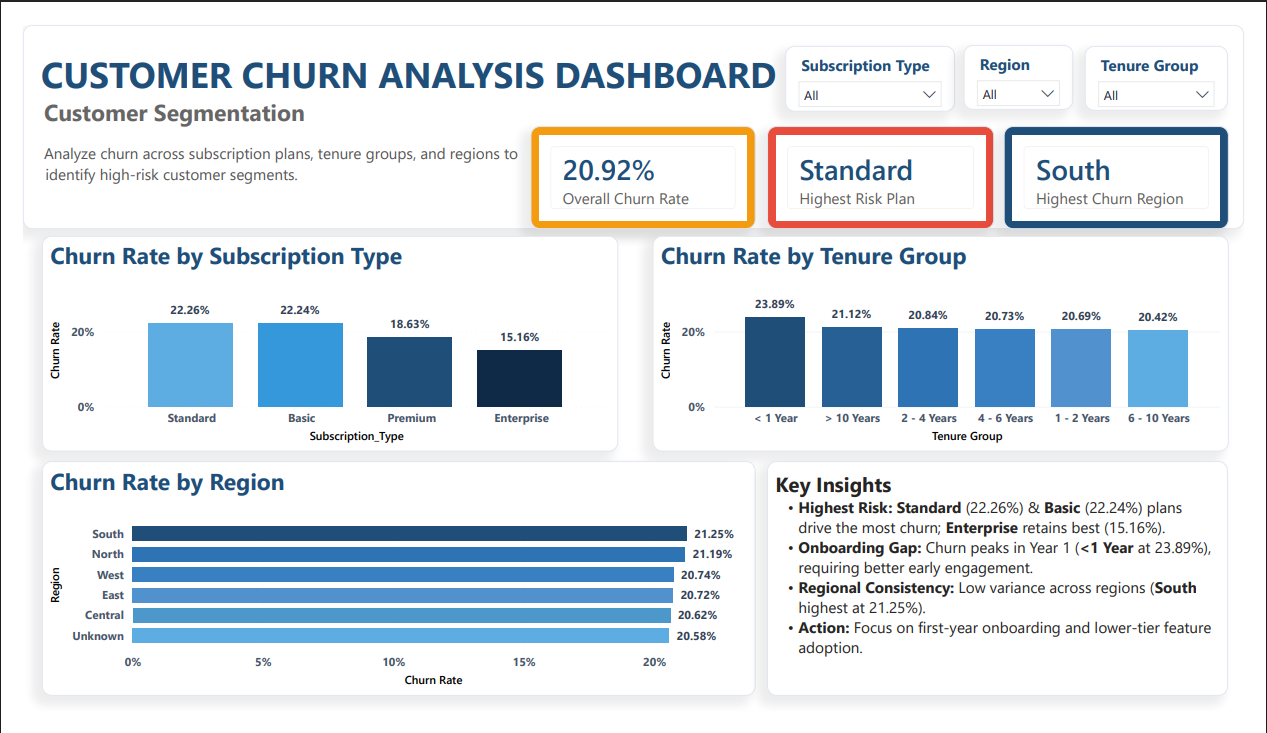

The dashboard page shown, as its layout file describes it:
{"tool":"powerbi","page":{"name":"Segmentation","canvas":[1280,720],"ordinal":1},"visuals":[{"type":"textbox","box":[0,0,1280,214],"z":0},{"type":"cardVisual","fields":{"Data":["select"]},"box":[532,106,236,108],"z":1000},{"type":"cardVisual","fields":{"Data":["Max(churn_customers_cleaned.Subscription_Type)"]},"box":[780,106,238,108],"z":2000},{"type":"slicer","fields":{"Values":["churn_customers_cleaned.Subscription_Type"]},"box":[798.9,22.2,178.3,68.3],"z":3000},{"type":"slicer","fields":{"Values":["churn_customers_cleaned.Region"]},"box":[985.6,21.1,115,68.3],"z":4000},{"type":"slicer","fields":{"Values":["churn_customers_cleaned.Tenure Group"]},"box":[1113.3,21.7,150,68.3],"z":5000},{"type":"cardVisual","fields":{"Data":["churn_customers_cleaned.Highest Churn Region"]},"box":[1028,106,236,108],"z":6000},{"type":"clusteredColumnChart","title":"Churn Rate by Subscription Type","fields":{"Category":["churn_customers_cleaned.Subscription_Type"],"Y":["churn_customers_cleaned.Churn Rate"]},"box":[20,221.3,604,226],"z":7000},{"type":"clusteredColumnChart","fields":{"Y":["churn_customers_cleaned.Churn Rate"],"Category":["churn_customers_cleaned.Tenure Group"]},"box":[660,221,604,226],"z":8000},{"type":"clusteredBarChart","fields":{"Y":["churn_customers_cleaned.Churn Rate"],"Category":["churn_customers_cleaned.Region"]},"box":[20,456.7,748.3,246.7],"z":9000},{"type":"textbox","box":[780,456.7,483.3,246.7],"z":10000}]}

Visuals, with their boxes in screenshot pixels (x1, y1, x2, y2), scaled from the page's 1280x720 canvas onto the 1267x733 screenshot:
textbox: locate(0, 0, 1266, 218)
cardVisual - select: locate(527, 108, 760, 218)
cardVisual - Max(churn_customers_cleaned.Subscription_Type): locate(772, 108, 1008, 218)
slicer - churn_customers_cleaned.Subscription_Type: locate(791, 23, 967, 92)
slicer - churn_customers_cleaned.Region: locate(976, 21, 1089, 91)
slicer - churn_customers_cleaned.Tenure Group: locate(1102, 22, 1250, 92)
cardVisual - churn_customers_cleaned.Highest Churn Region: locate(1018, 108, 1251, 218)
"Churn Rate by Subscription Type" clusteredColumnChart: locate(20, 225, 618, 455)
clusteredColumnChart - churn_customers_cleaned.Churn Rate x churn_customers_cleaned.Tenure Group: locate(653, 225, 1251, 455)
clusteredBarChart - churn_customers_cleaned.Churn Rate x churn_customers_cleaned.Region: locate(20, 465, 760, 716)
textbox: locate(772, 465, 1250, 716)
